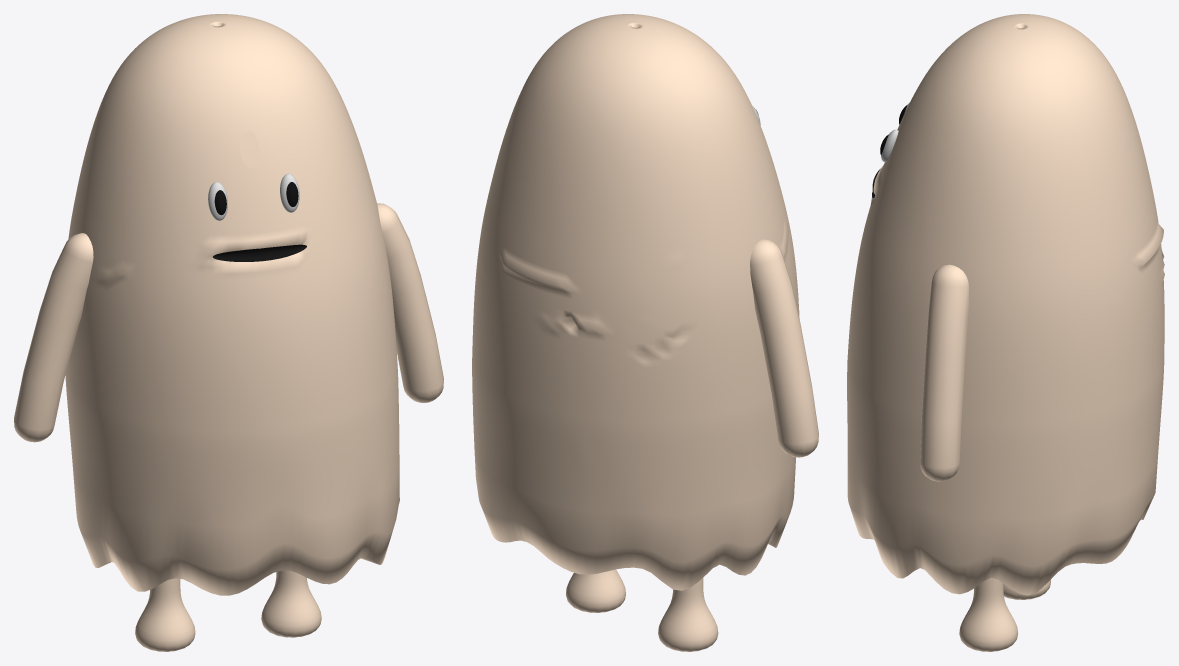
The model's file is Versão1_MENNY__.FBX.
The picture shows the model from 3 angles, left to right: view 1: azimuth 30°, elevation 25°; view 2: azimuth 150°, elevation 25°; view 3: azimuth 270°, elevation 25°; orthographic projection. The views are drawn at different scales.
Parts seen in each view (by area): view 1: menny, braços, 2_PES, boca; view 2: menny, braços, 2_PES; view 3: menny, braços, 2_PES.
Boxes of the visible parts, x1=… form: menny: x1=65, y1=14, x2=399, y2=595; braços: x1=14, y1=203, x2=443, y2=442; 2_PES: x1=135, y1=570, x2=321, y2=651; boca: x1=213, y1=244, x2=306, y2=261; menny: x1=472, y1=14, x2=799, y2=590; braços: x1=750, y1=239, x2=818, y2=457; 2_PES: x1=566, y1=569, x2=718, y2=651; menny: x1=847, y1=14, x2=1164, y2=595; braços: x1=920, y1=264, x2=969, y2=481; 2_PES: x1=959, y1=577, x2=1050, y2=651.
Bounding box in the file's own units: 34.82 × 54.39 × 26.44.
